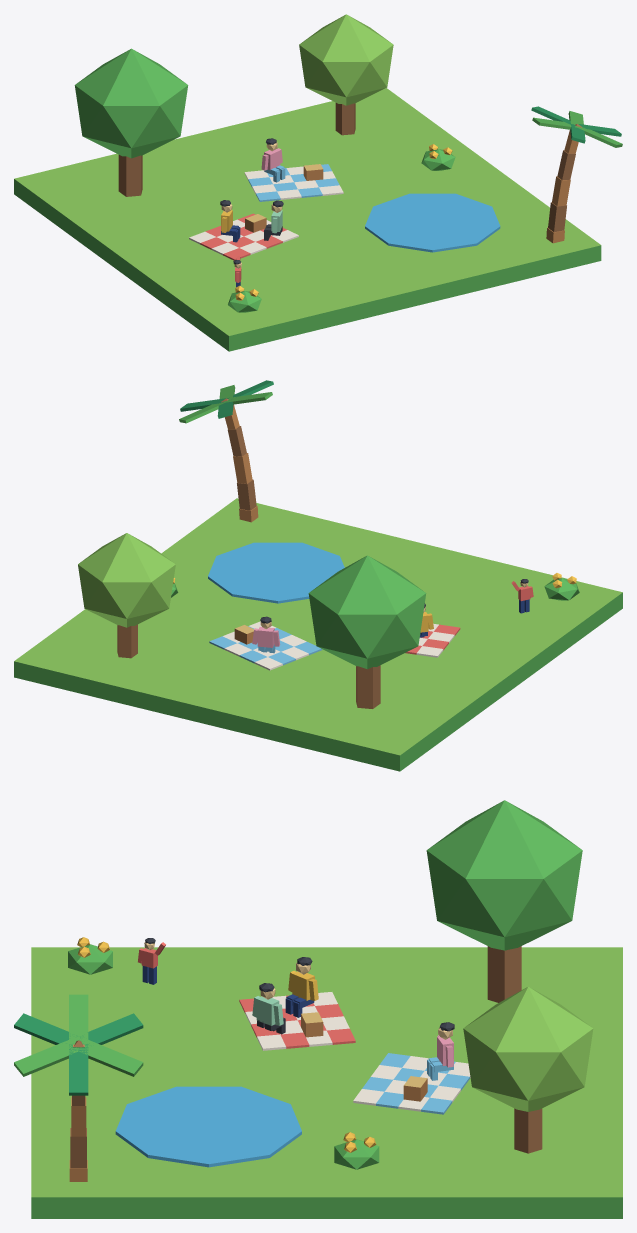
File: park_picnic.glb
3 views of the same model, one above another, from view 1: azimuth 30°, elevation 25°; view 2: azimuth 150°, elevation 25°; view 3: azimuth 270°, elevation 25° (orthographic). The views are drawn at different scales.
Visible parts, largest first — view 1: park_picnic; view 2: park_picnic; view 3: park_picnic.
Part boxes in pixels (x1,y1,x2,y2): park_picnic: (14,14,622,351); park_picnic: (14,380,622,771); park_picnic: (14,800,622,1218).
Size of the model in its own units: 1.09 by 0.4089 by 1.03.
